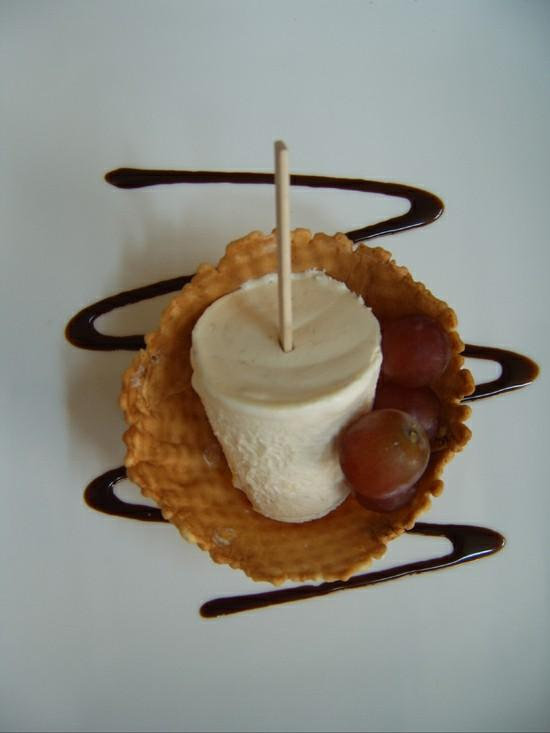Kulfi: (192, 266, 377, 526)
